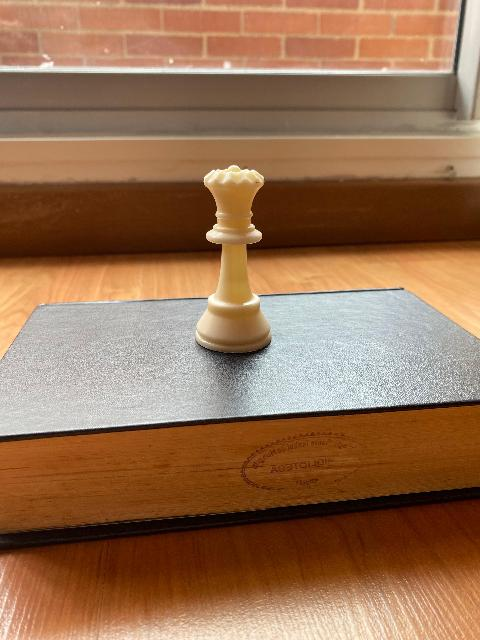white-queen: (194, 164, 272, 354)
